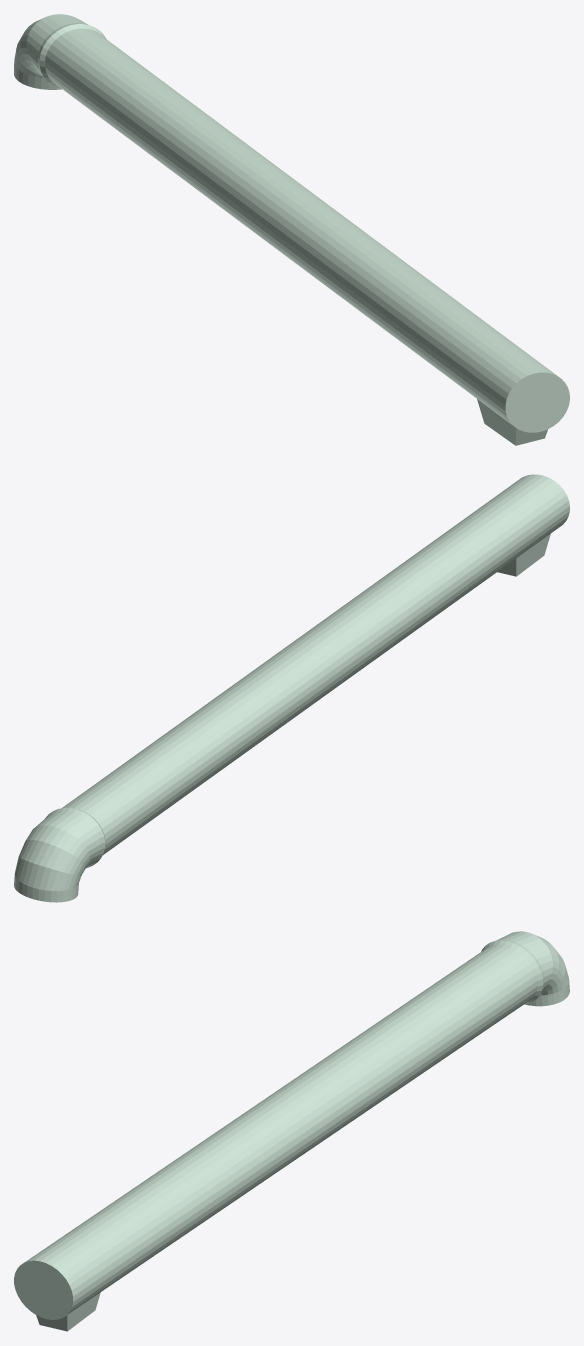
The model's file is feederArmCentered.fbx.
3 renders of one model, top to bottom at view 1: azimuth 30°, elevation 25°; view 2: azimuth 150°, elevation 25°; view 3: azimuth 330°, elevation 25°, orthographic. The views are drawn at different scales.
Visible parts, largest first — view 1: feeder arm; view 2: feeder arm; view 3: feeder arm.
Boxes of the visible parts, x1,y1,x2,y2 form: feeder arm: (14,14,569,445); feeder arm: (14,474,569,902); feeder arm: (14,931,569,1331).
Size of the model in its own units: 117 by 105 by 1261.
